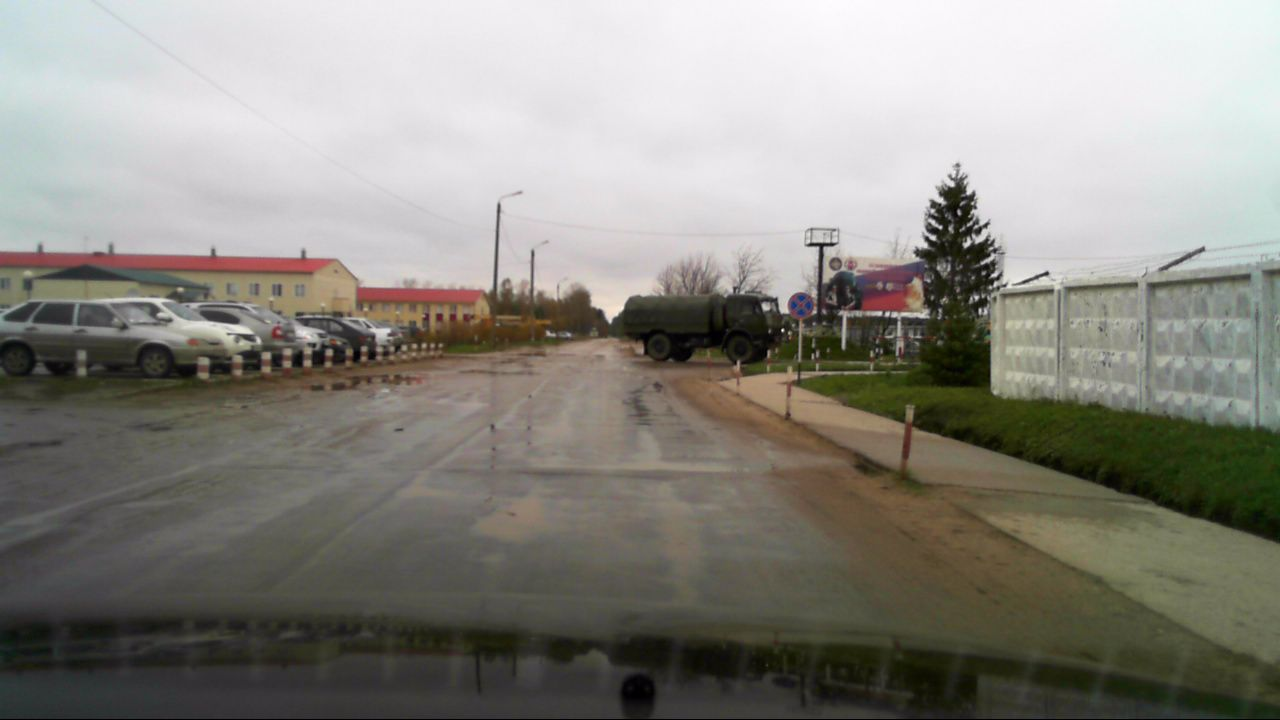No Parking: (786, 291, 814, 320)
